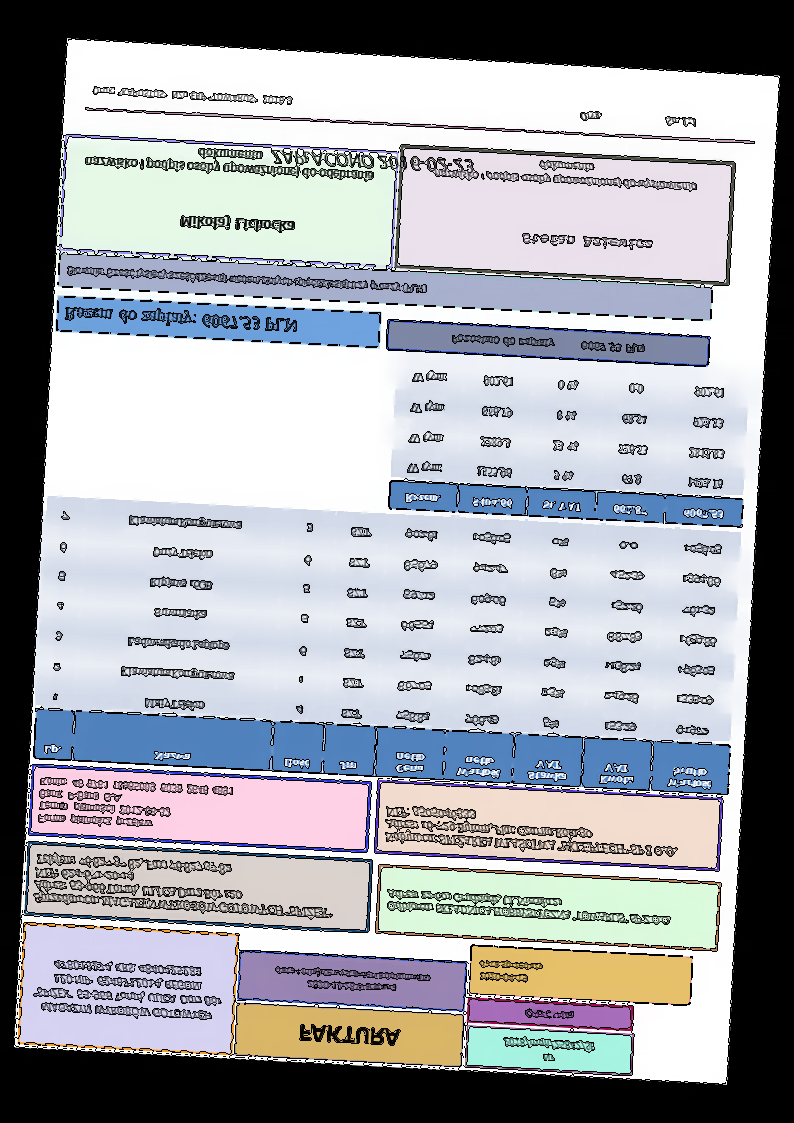Table: (31, 493, 744, 797), (386, 356, 750, 529)
TextBox: (31, 848, 338, 925), (382, 802, 682, 862), (30, 955, 225, 1025), (65, 263, 428, 299), (383, 887, 673, 930), (35, 774, 236, 836), (82, 140, 374, 182), (433, 153, 700, 197), (61, 301, 301, 337), (270, 143, 480, 178), (271, 962, 433, 998), (89, 83, 294, 110), (449, 330, 646, 356), (177, 212, 298, 239), (500, 1032, 596, 1066), (520, 230, 656, 254), (296, 1021, 403, 1048), (577, 110, 700, 131), (475, 953, 545, 988), (523, 1005, 576, 1024)
